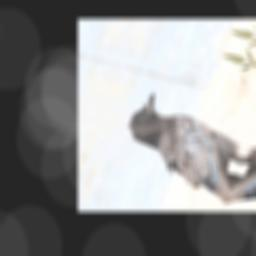Crow: (110, 88, 255, 203)
